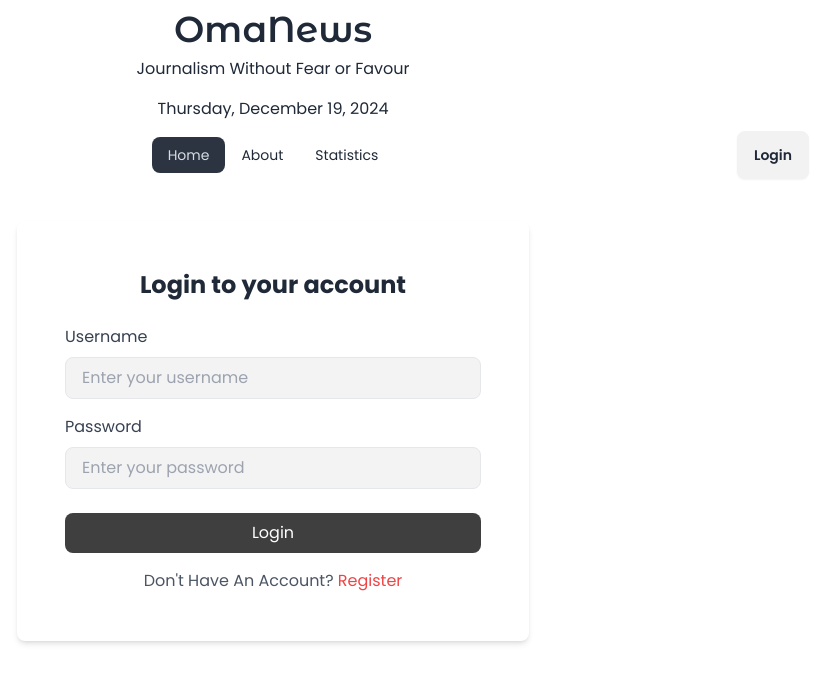
Scenario: Login Component › Form Submission › handles login error
The image size is (826, 697).
In the field with test id "username-input": point(273, 378) x1=65 y1=357 x2=481 y2=399, type "testuser"
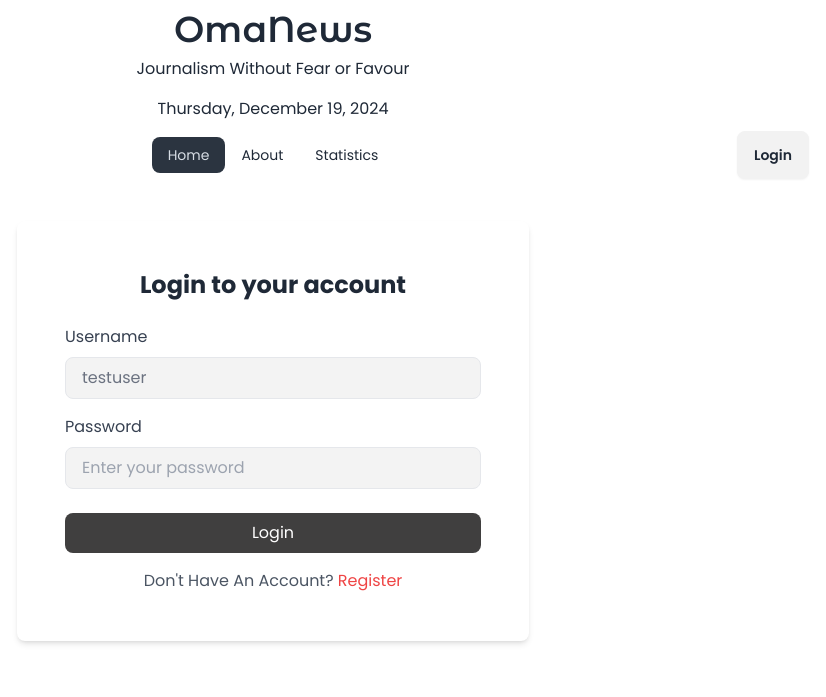
In the password field with test id "password-input": point(273, 468) x1=65 y1=447 x2=481 y2=489, type "wrongpassword"
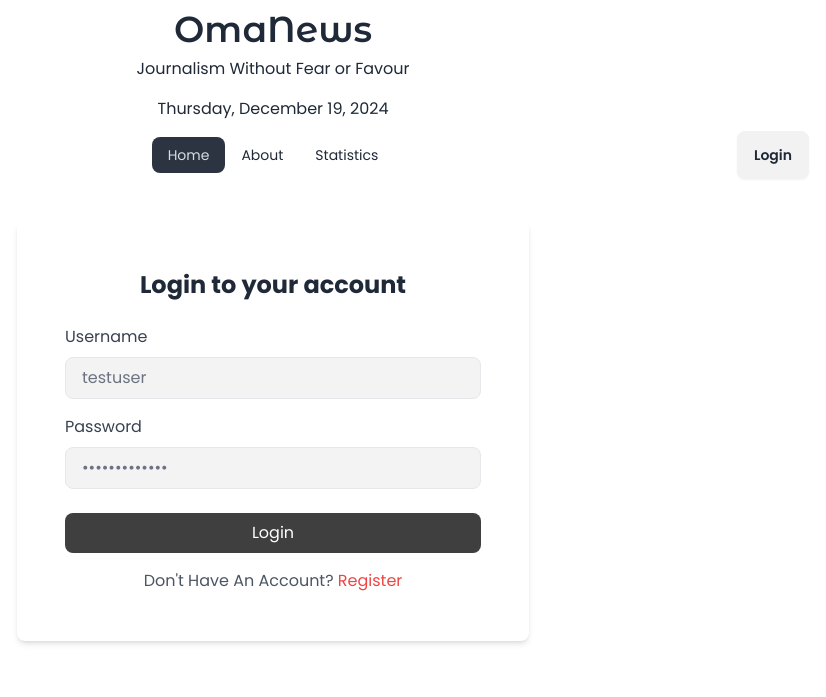
Click the button with test id "login-button": point(273, 533) x1=65 y1=513 x2=481 y2=553
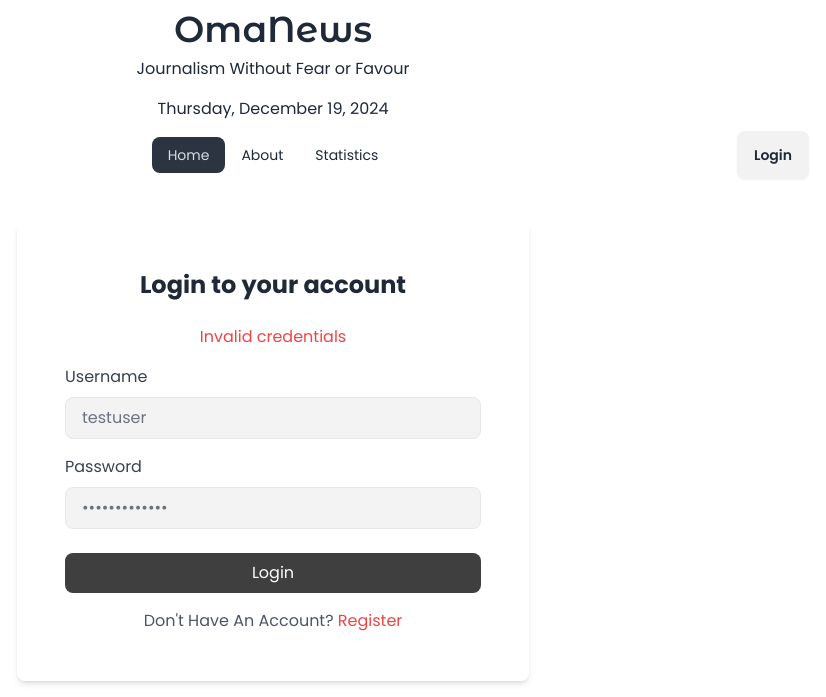
expect the text "Invalid credentials" is shown: met, box x1=200 y1=325 x2=346 y2=348
